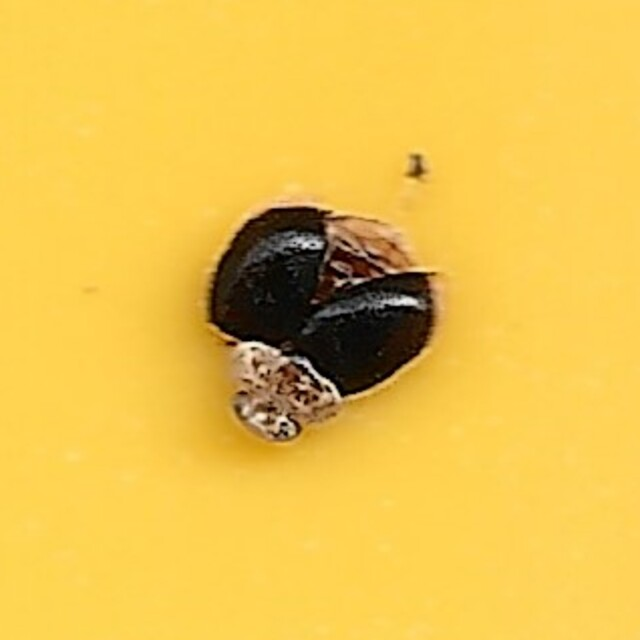Coleoptera: (201, 188, 439, 452)
